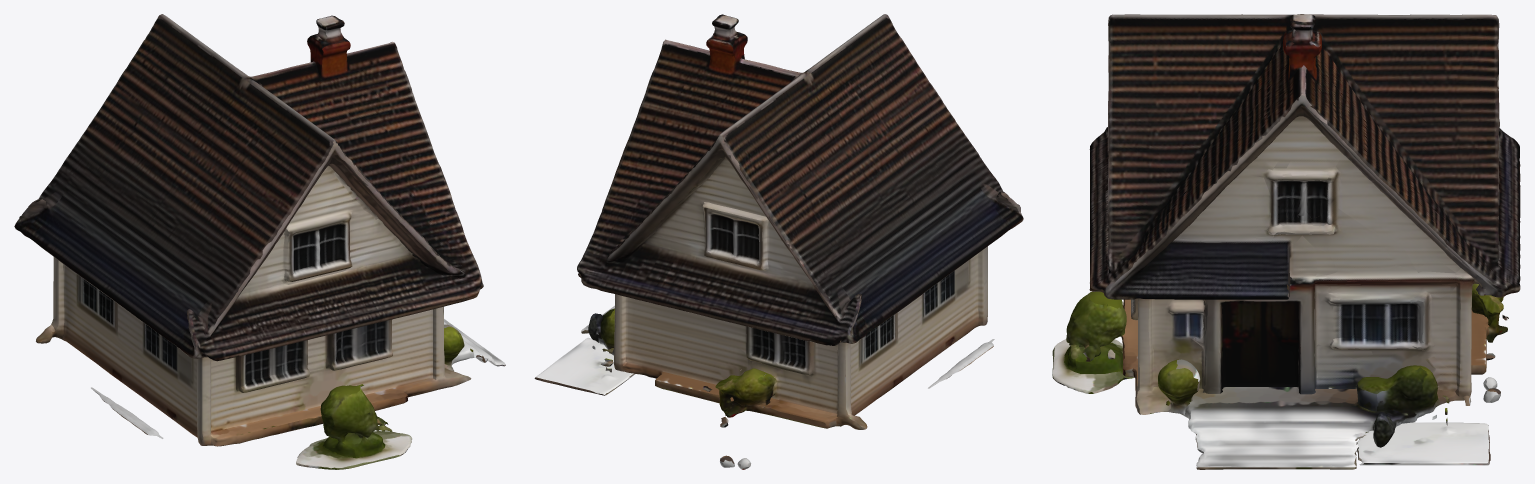
File: casa_suburbio.glb
3 views of the same model, side by side, from view 1: azimuth 30°, elevation 25°; view 2: azimuth 150°, elevation 25°; view 3: azimuth 270°, elevation 25° (orthographic). The views are drawn at different scales.
Visible parts, largest first — view 1: tmpj8fxoe4d.ply; view 2: tmpj8fxoe4d.ply; view 3: tmpj8fxoe4d.ply.
Part boxes in pixels (x1,y1,x2,y2): tmpj8fxoe4d.ply: (14, 14, 505, 469); tmpj8fxoe4d.ply: (534, 14, 1023, 469); tmpj8fxoe4d.ply: (1052, 14, 1520, 469).
Size of the model in its own units: 0.894 by 0.9093 by 0.9001.
1 material, 1 textured.
